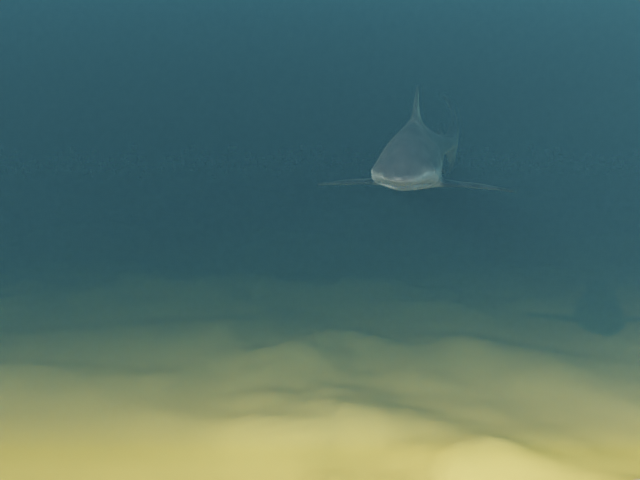Carribean Shark.001: (316, 85, 515, 192)
